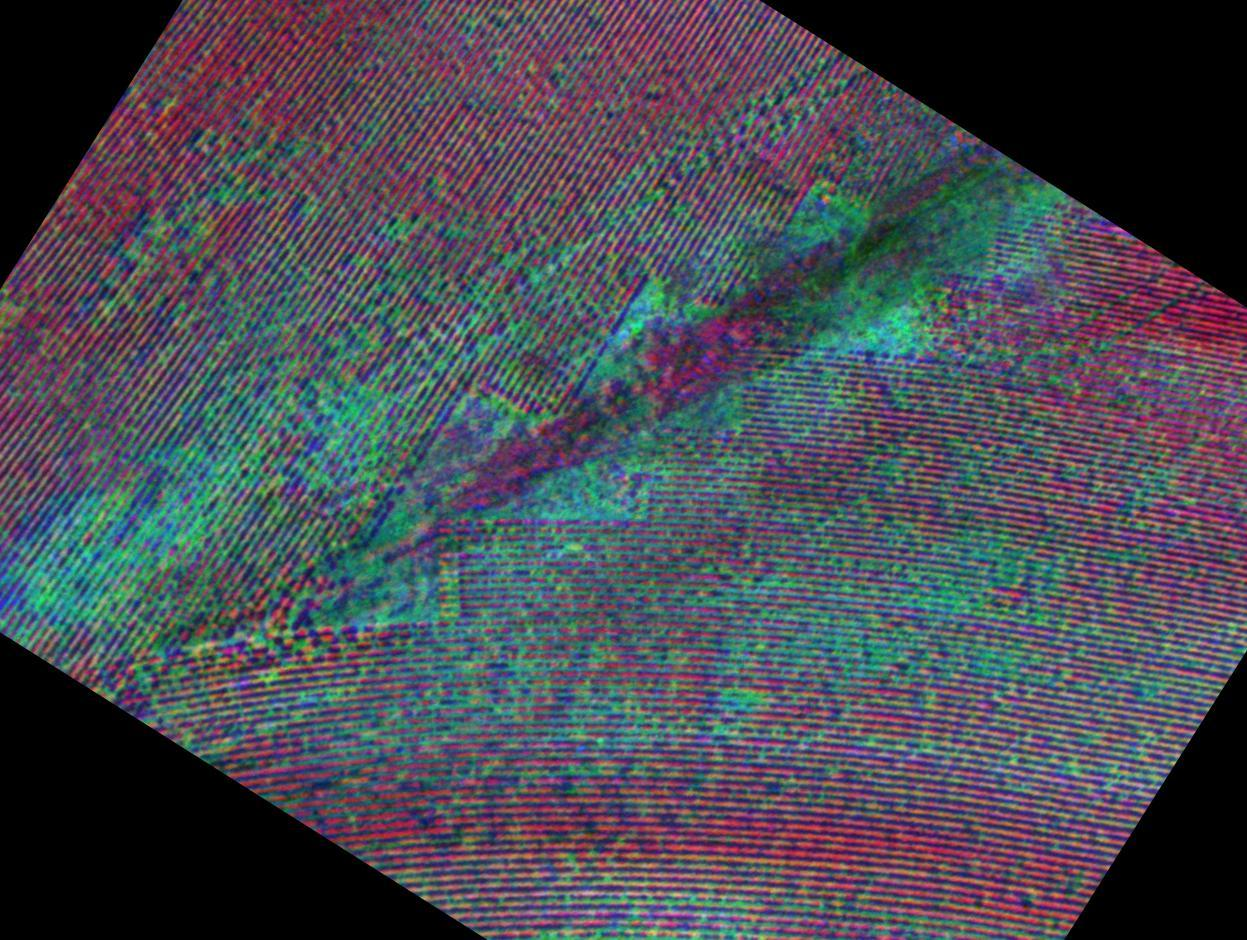dc: (858, 268, 926, 360), (31, 510, 105, 593), (203, 398, 266, 490), (931, 565, 984, 642), (633, 283, 671, 324)
